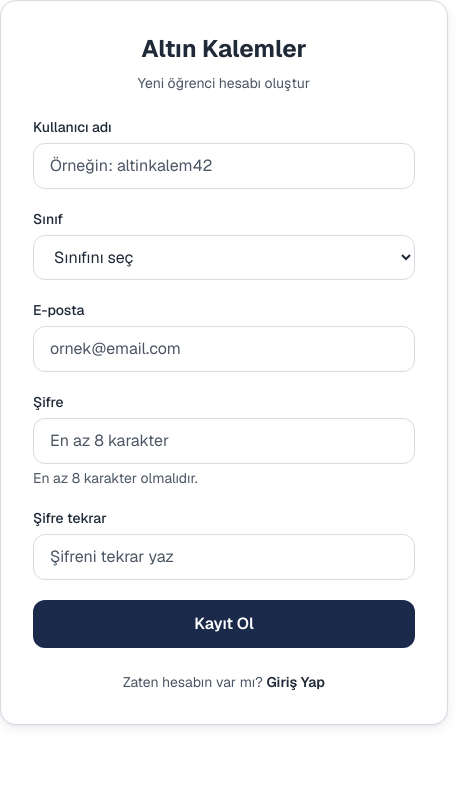
RegisterPage › signUp error guvenli mesaj gosterir
This screenshot has width=466, height=800.
Step 1. Type "testnick" into the field labelled "Kullanıcı adı" → (224, 166), box [33,143,415,189]
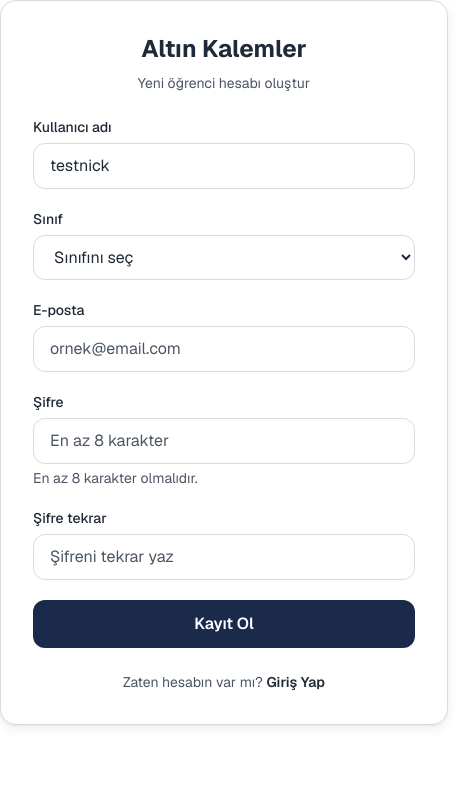
Step 2. Select "10. Sınıf" in the dropdown labelled "Sınıf" → (224, 258), box [33,235,415,280]
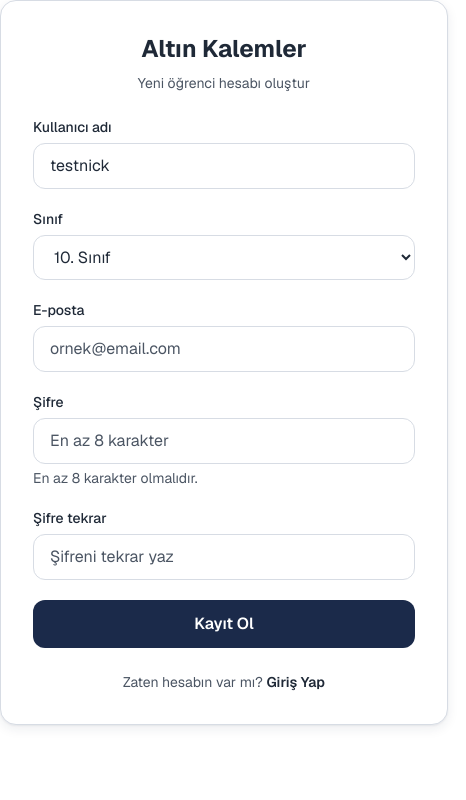
Step 3. Type "test@test.com" into the field labelled "E-posta" → (224, 349), box [33,326,415,372]
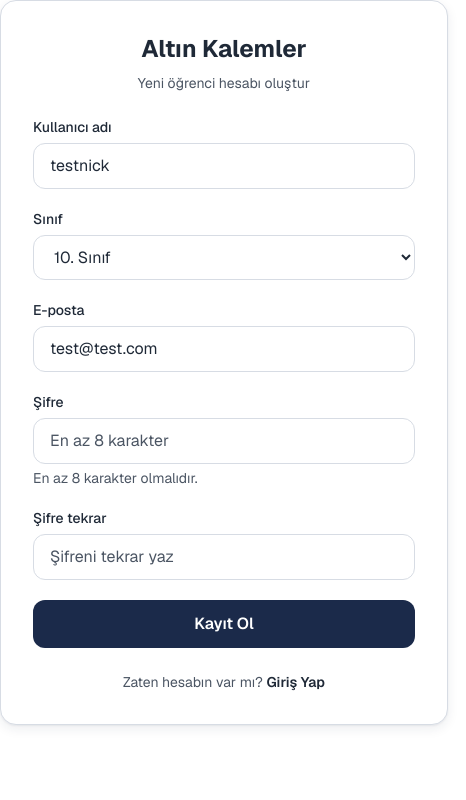
Step 4. Type "securepass1" into the password field labelled "Şifre" → (224, 441), box [33,418,415,464]
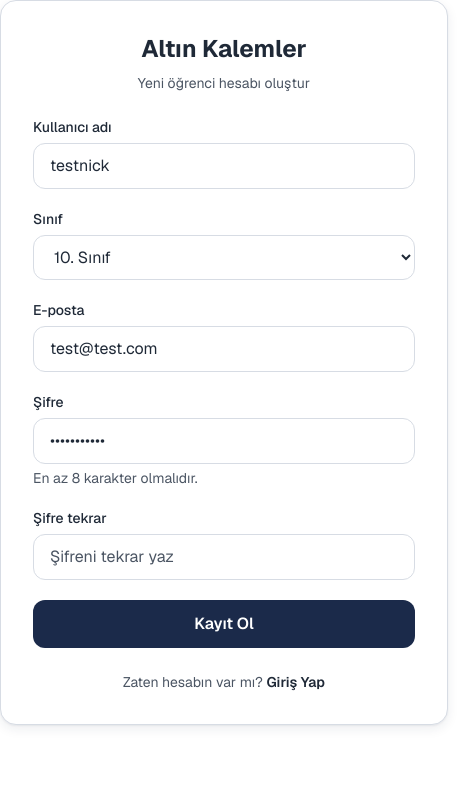
Step 5. Type "securepass1" into the password field labelled "Şifre tekrar" → (224, 557), box [33,534,415,580]
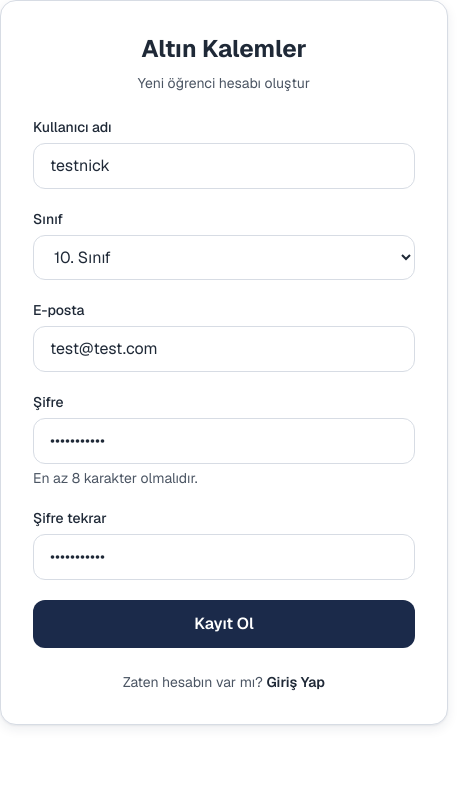
Step 6. Click the button "Kayıt Ol" → (224, 624), box [33,600,415,648]
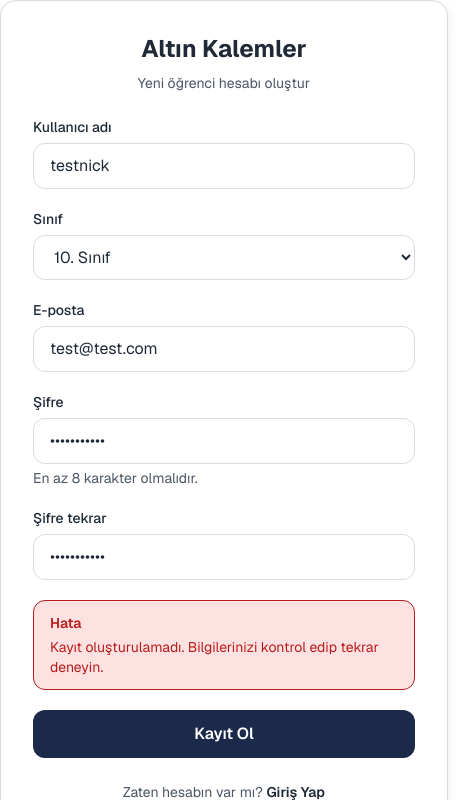
Now the text "Kayıt oluşturulamadı. Bilgilerinizi kontrol edip tekrar deneyin." is shown, box [50,637,398,677]
